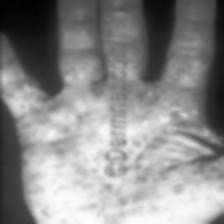Non-Cancerous Skin Condition: (136, 82, 202, 164), (67, 180, 190, 224), (58, 91, 102, 172), (110, 0, 138, 36), (23, 97, 52, 127)
